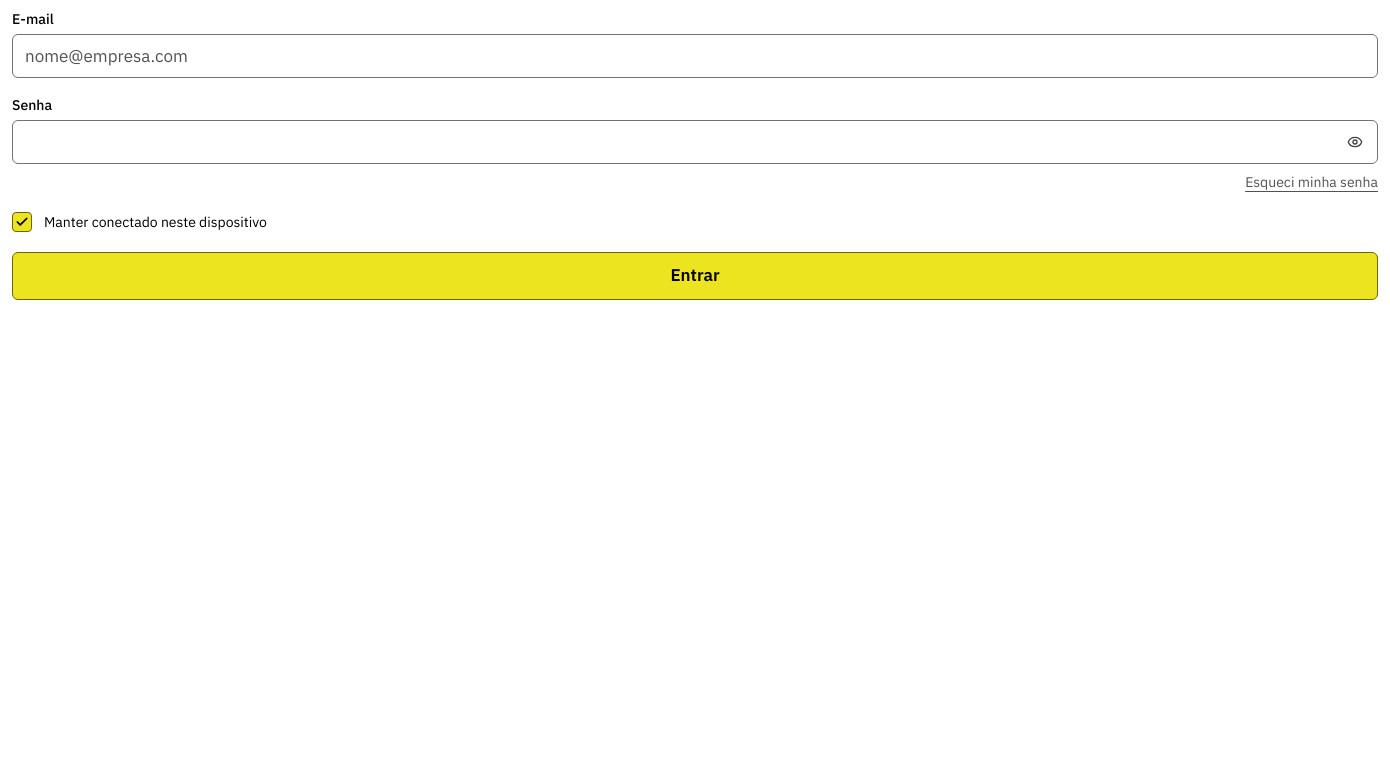
Scenario: login block › validates, shows the failure alert and succeeds with the demo password
Click the button "Entrar" at (695, 276), box [12,252,1378,300]
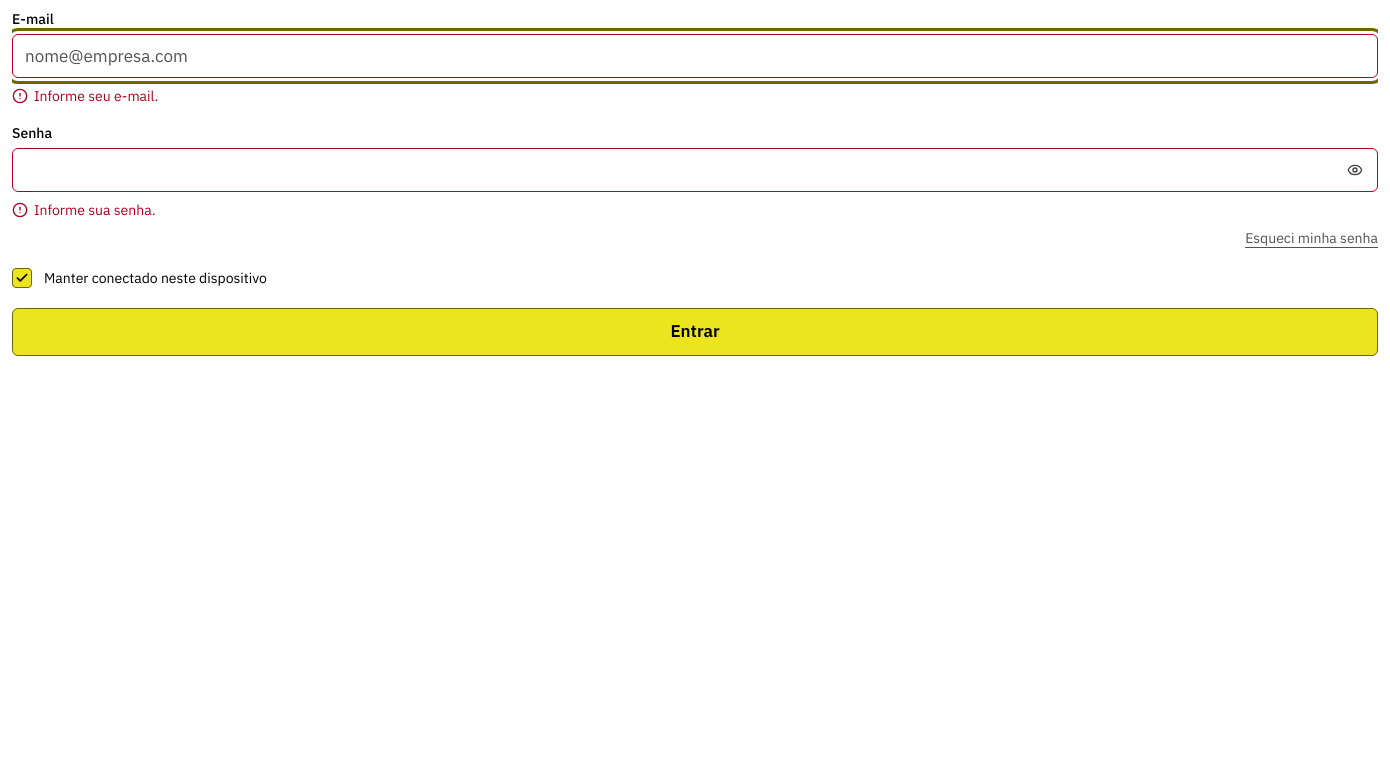
Expected: the text "Informe seu e-mail." is shown, [12,87,158,105]
Expected: the text "Informe sua senha." is shown, [12,201,156,219]
Type "marcio@exemplo.com" into the field labelled "E-mail" at (695, 56), box [12,34,1378,78]
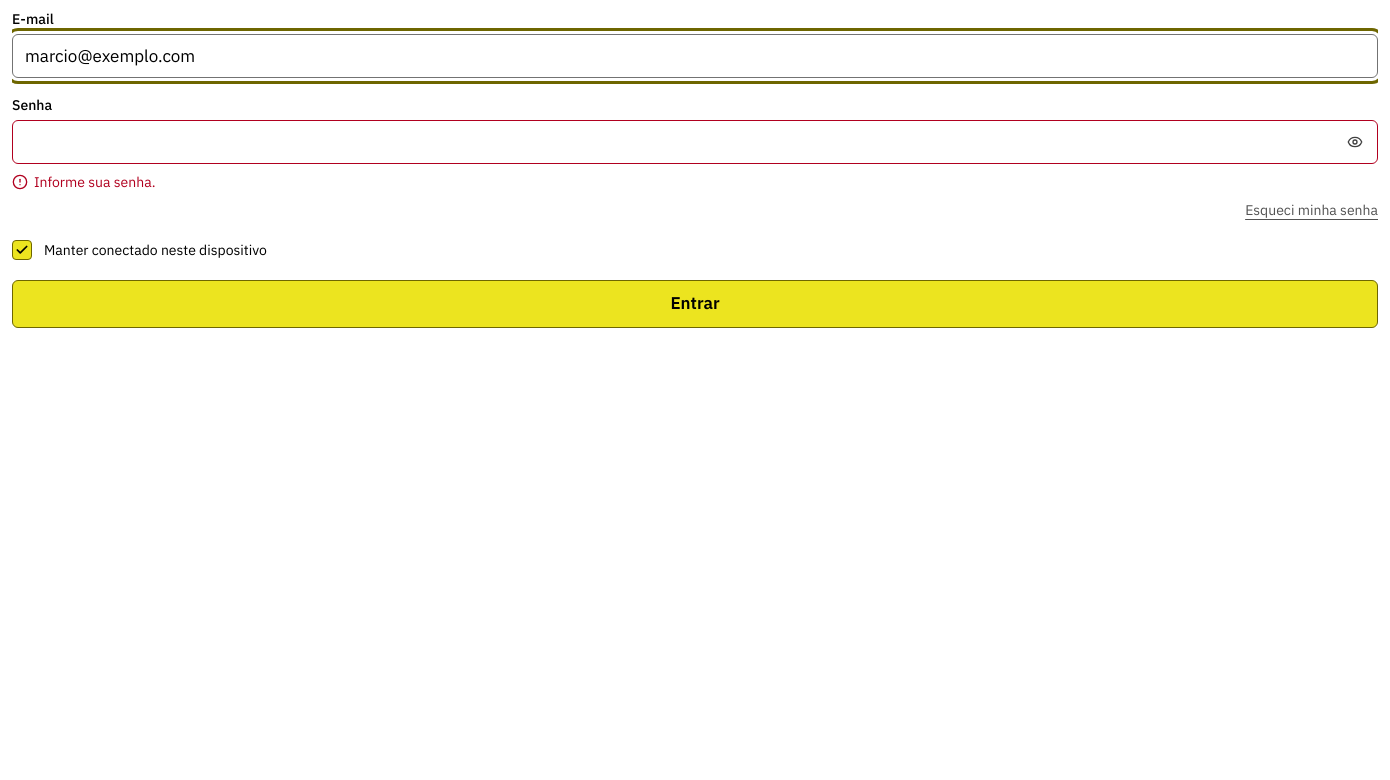
Type "errada" into the password field labelled "Senha" at (677, 142), box [25,121,1329,163]
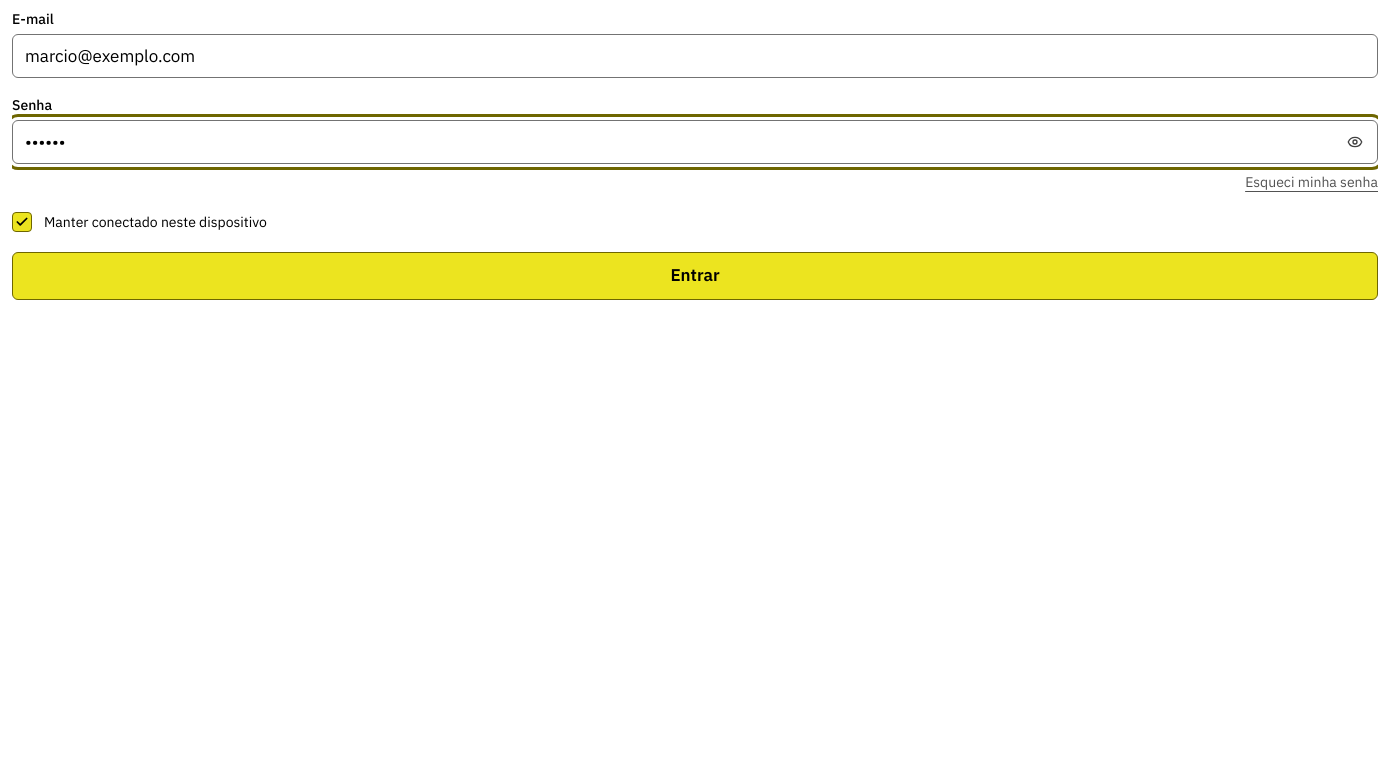
Click the button "Entrar" at (695, 276), box [12,252,1378,300]
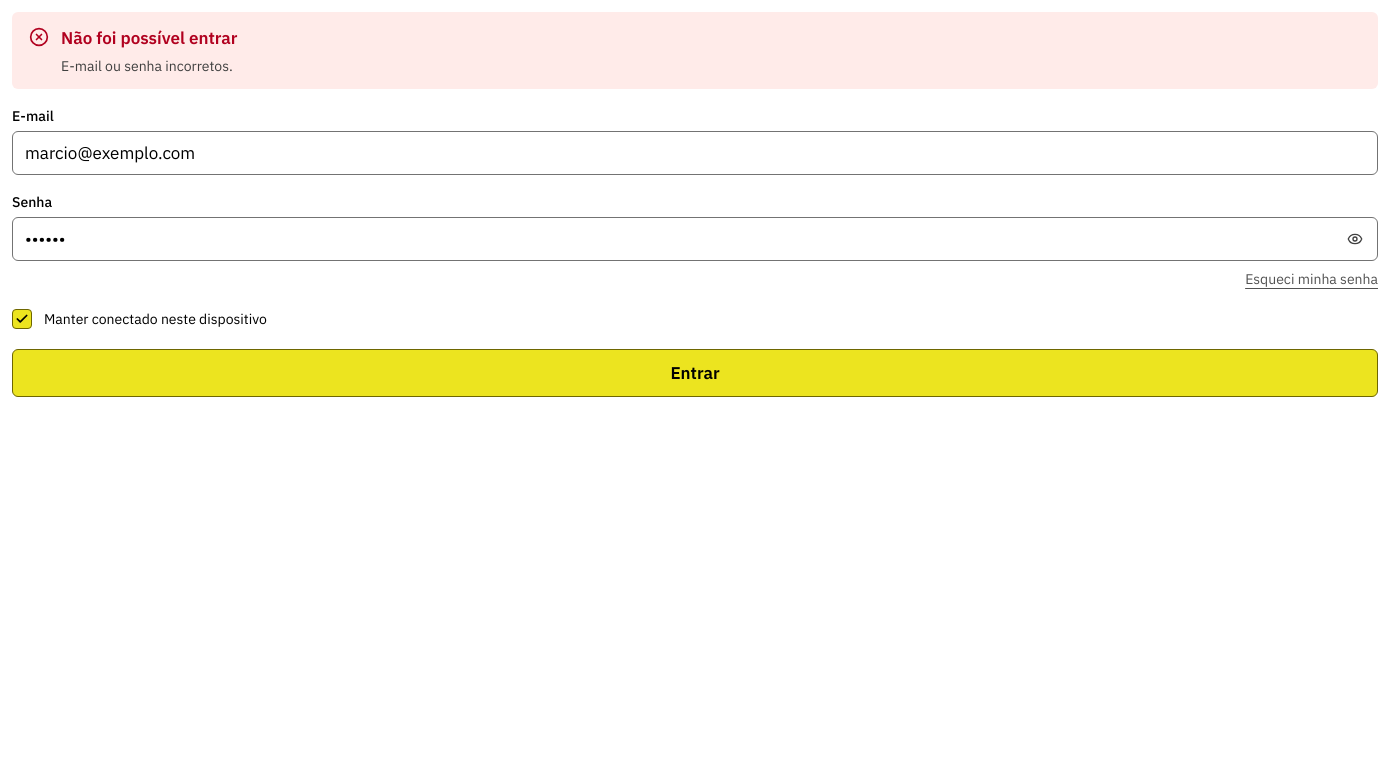
Expected: the message shows "E-mail ou senha incorretos.", [61,57,233,75]
Type "mw-demo-123" into the password field labelled "Senha" at (677, 239), box [25,218,1329,260]
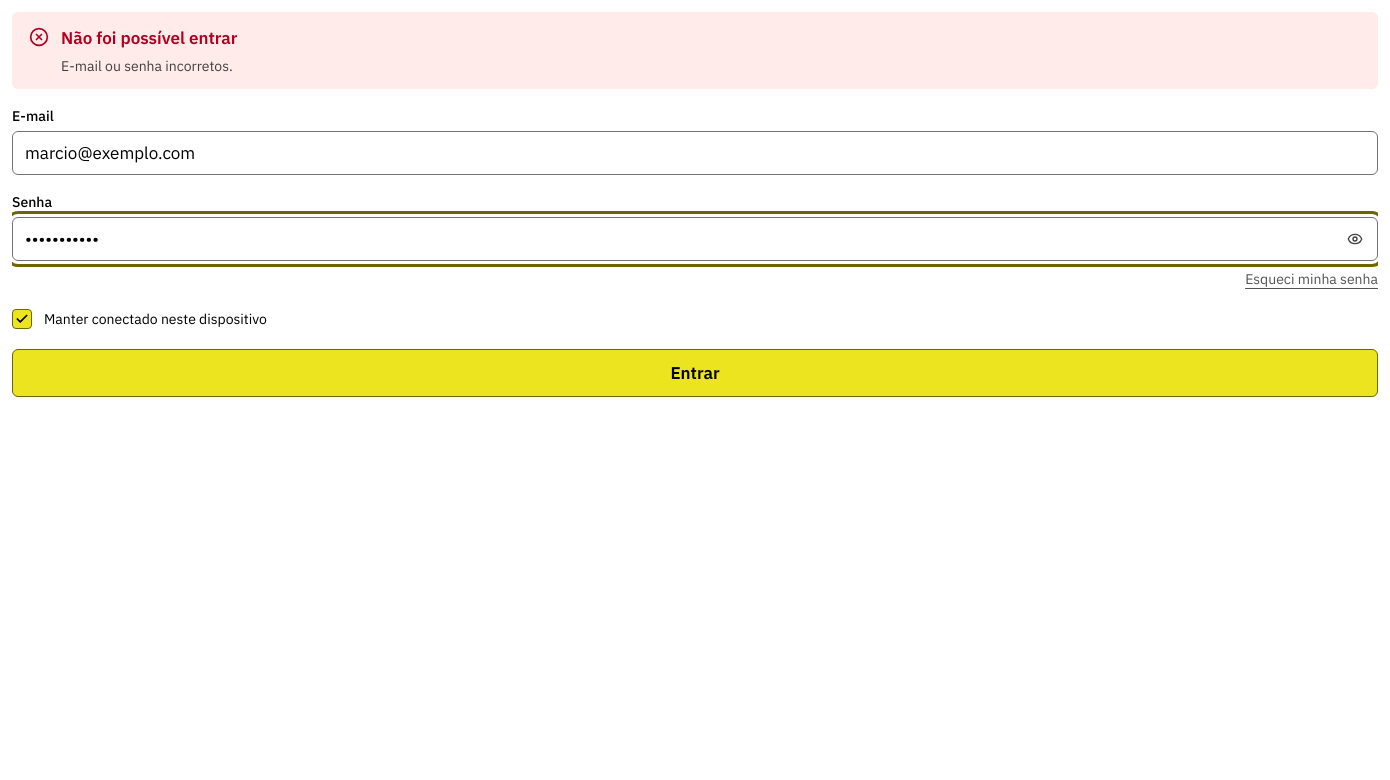
Click the button "Entrar" at (695, 373), box [12,349,1378,397]
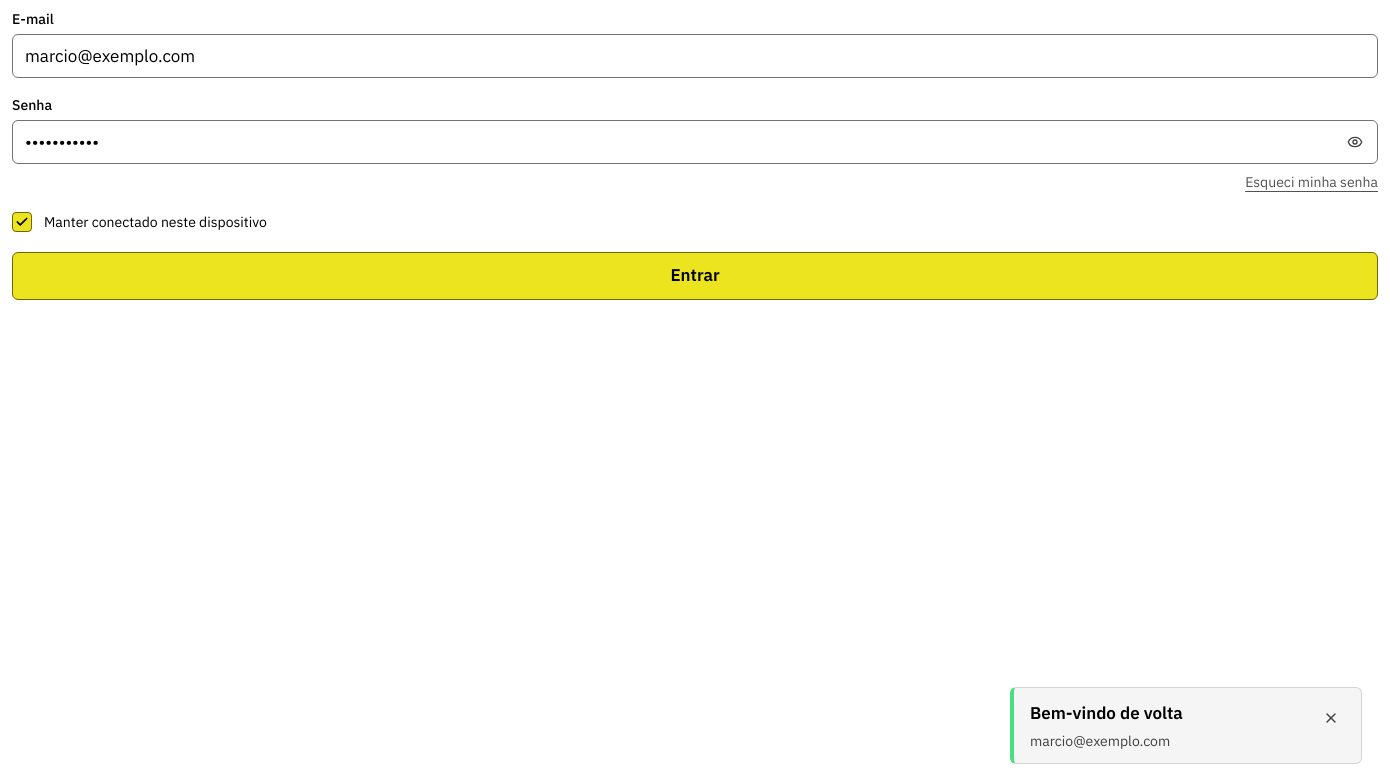
Expected: the text "Bem-vindo de volta" is shown, [1030,702,1183,724]
